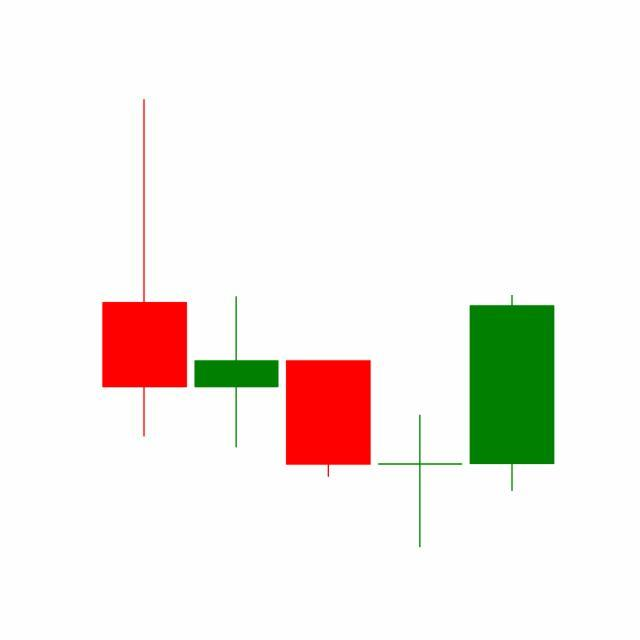Spinning Top: (374, 413, 468, 550)
